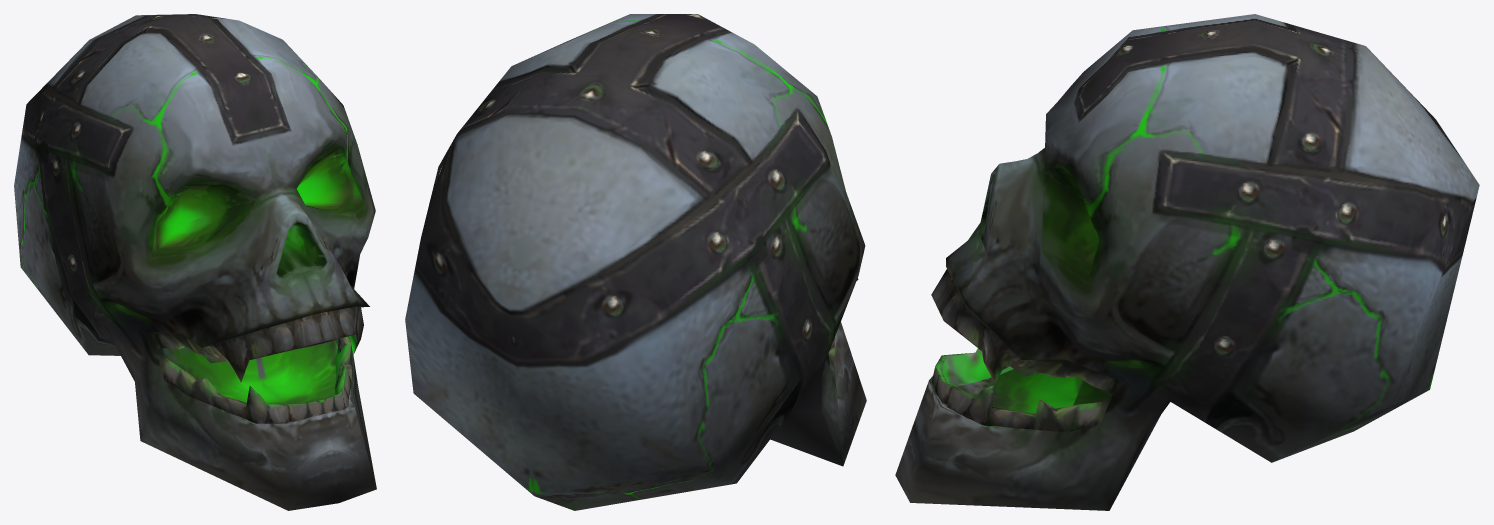
The model's file is d_skeleton01.FBX.
3 views of the same model, side by side, from view 1: azimuth 30°, elevation 25°; view 2: azimuth 150°, elevation 25°; view 3: azimuth 270°, elevation 25° (orthographic). The views are drawn at different scales.
Visible parts, largest first — view 1: d_skeleton; view 2: d_skeleton; view 3: d_skeleton.
Boxes of the visible parts, x1,y1,x2,y2 form: d_skeleton: (14,14,376,510); d_skeleton: (405,14,866,510); d_skeleton: (895,14,1479,510).
Size of the model in its own units: 307 by 425 by 499.
1 material, 1 textured.
